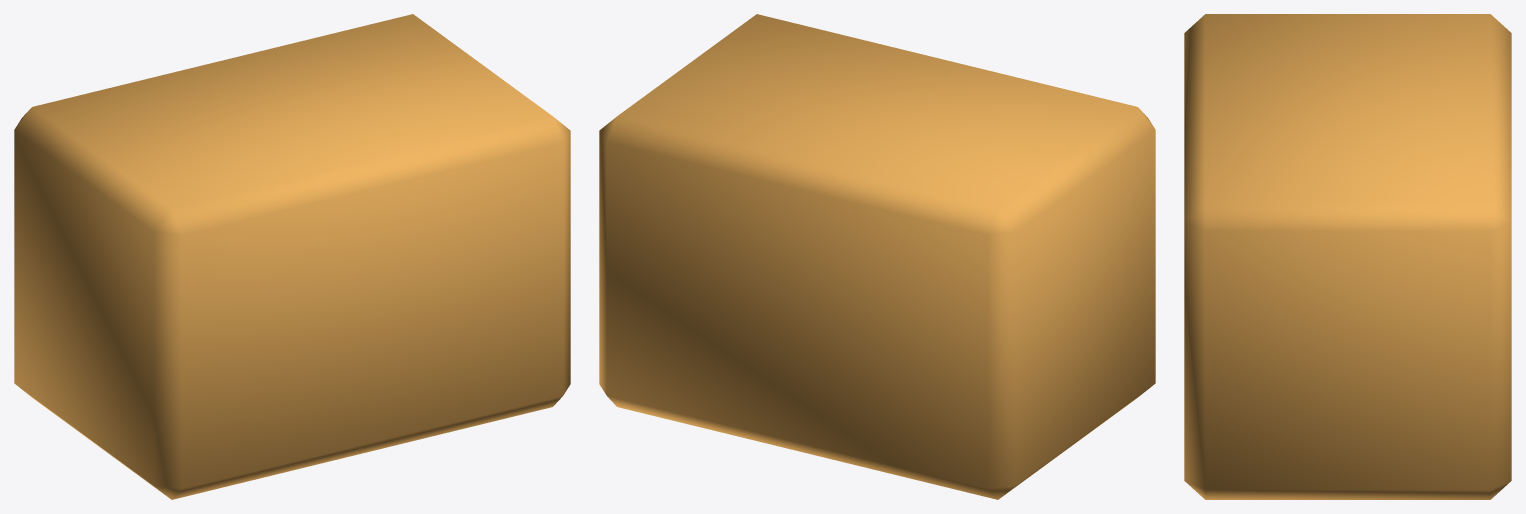
The picture shows the model from 3 angles, left to right: view 1: azimuth 30°, elevation 25°; view 2: azimuth 150°, elevation 25°; view 3: azimuth 270°, elevation 25°; orthographic projection.
Visible parts, largest first — view 1: Cube_02; view 2: Cube_02; view 3: Cube_02.
Part boxes in pixels (x1,y1,x2,y2): Cube_02: (14, 14, 570, 499); Cube_02: (599, 14, 1155, 499); Cube_02: (1184, 14, 1511, 499).
Size of the model in its own units: 351 by 234 by 234.
